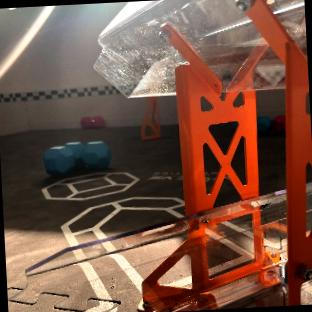V5_BLUE: (42, 139, 111, 176), (257, 115, 270, 132)
